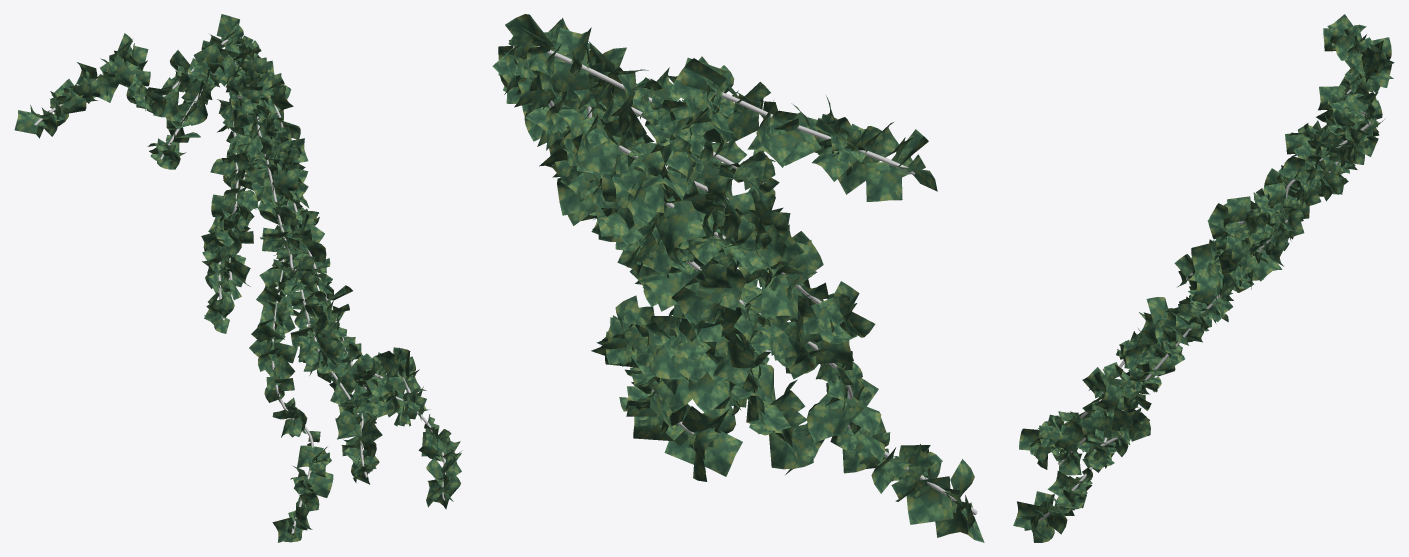
Rendered from SM_Ivy_05.fbx.
3 renders of one model, left to right at view 1: azimuth 30°, elevation 25°; view 2: azimuth 150°, elevation 25°; view 3: azimuth 270°, elevation 25°, orthographic. The views are drawn at different scales.
Visible parts, largest first — view 1: SM_Ivy_05_LOD0; view 2: SM_Ivy_05_LOD0; view 3: SM_Ivy_05_LOD0.
Boxes of the visible parts, bbox=[...] form: SM_Ivy_05_LOD0: bbox=[14, 14, 461, 542]; SM_Ivy_05_LOD0: bbox=[492, 14, 984, 542]; SM_Ivy_05_LOD0: bbox=[1013, 14, 1394, 542].
Size of the model in its own units: 254 by 251 by 305.
2 materials, 1 textured.
